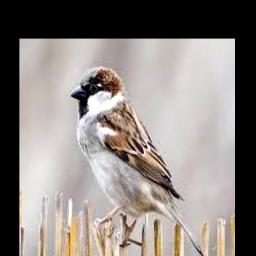Sparrow: (70, 65, 205, 256)
